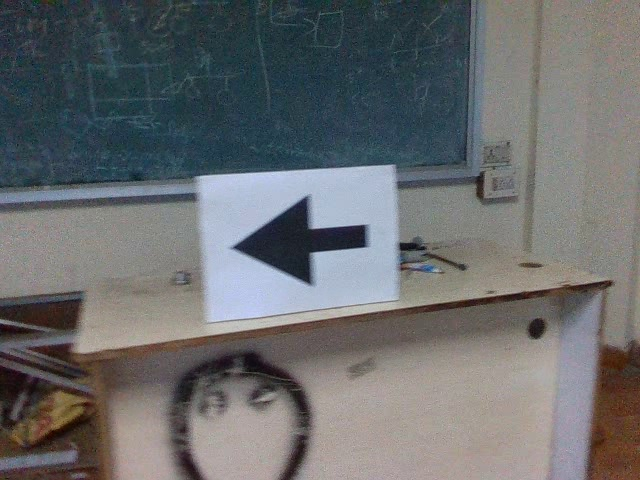Left: (227, 192, 373, 296)
